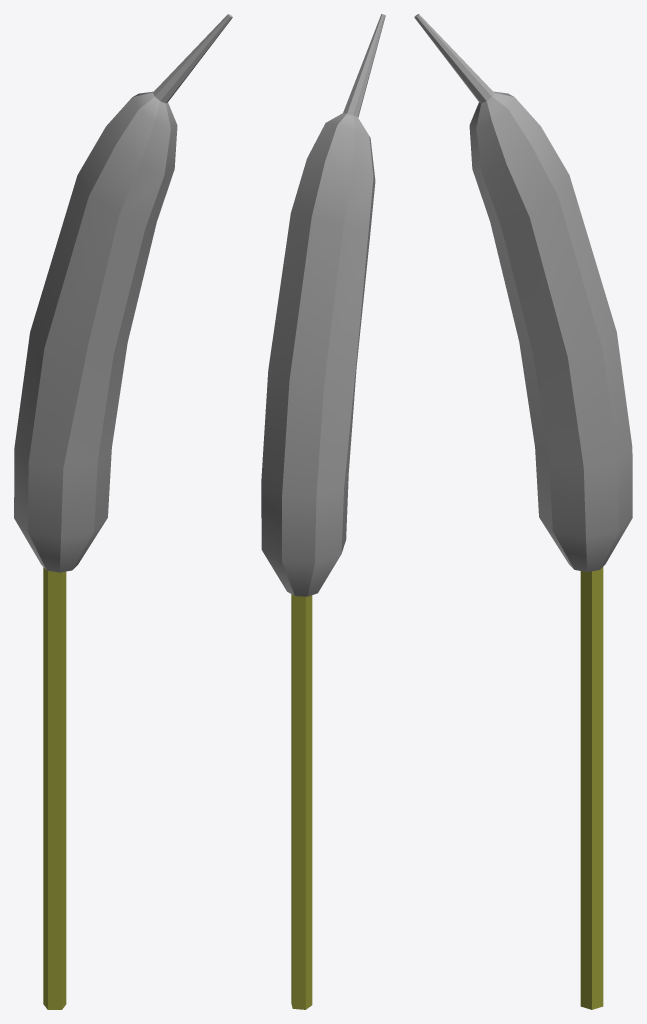
Rendered from cattail.fbx.
3 views of the same model, side by side, from view 1: azimuth 90°, elevation 25°; view 2: azimuth 150°, elevation 25°; view 3: azimuth 270°, elevation 25° (orthographic). The views are drawn at different scales.
Parts seen in each view (by area): view 1: pCylinder2, pCylinder1; view 2: pCylinder2, pCylinder1; view 3: pCylinder2, pCylinder1.
Boxes of the visible parts, bbox=[...] form: pCylinder2: bbox=[14, 14, 232, 572]; pCylinder1: bbox=[43, 567, 66, 1009]; pCylinder2: bbox=[261, 14, 385, 596]; pCylinder1: bbox=[291, 594, 312, 1009]; pCylinder2: bbox=[414, 14, 632, 571]; pCylinder1: bbox=[580, 567, 603, 1009].
Size of the model in its own units: 1.88 by 21.14 by 4.23.
